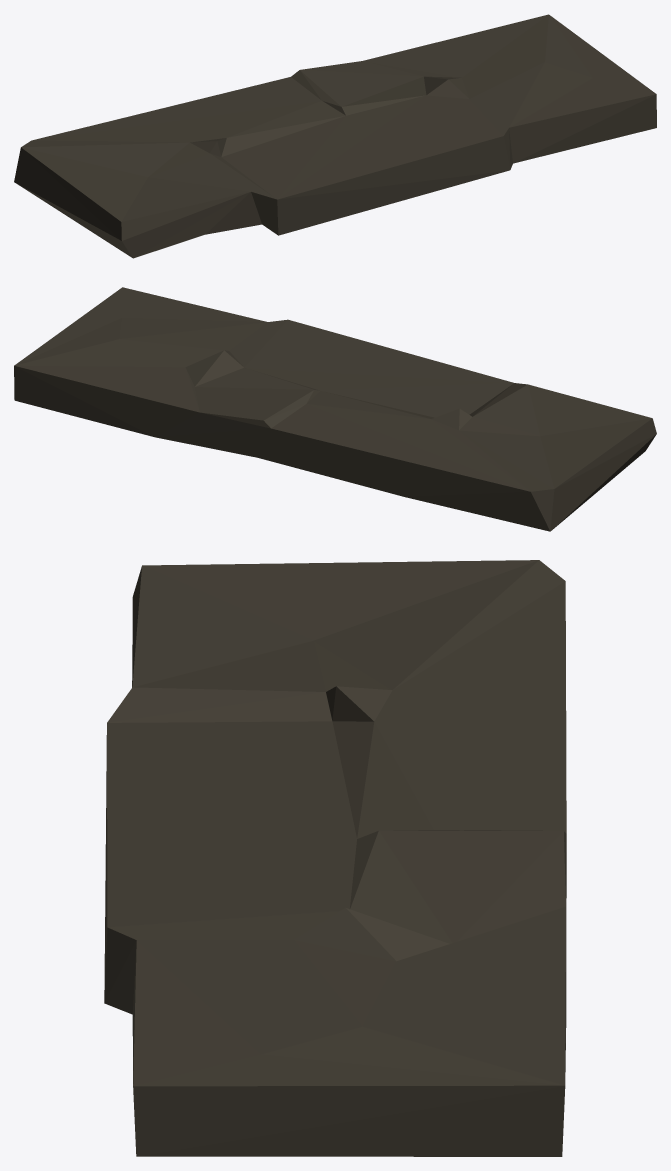
Rendered from Stairs_2.fbx.
The picture shows the model from 3 angles, top to bottom: view 1: azimuth 30°, elevation 25°; view 2: azimuth 150°, elevation 25°; view 3: azimuth 270°, elevation 25°; orthographic projection. The views are drawn at different scales.
Parts seen in each view (by area): view 1: Group11806; view 2: Group11806; view 3: Group11806.
Part boxes in pixels (box(x1,y1,x2,y2)): Group11806: box(14, 14, 656, 258); Group11806: box(14, 287, 656, 531); Group11806: box(104, 560, 566, 1156).
Size of the model in its own units: 6.5 by 0.6667 by 2.43.
